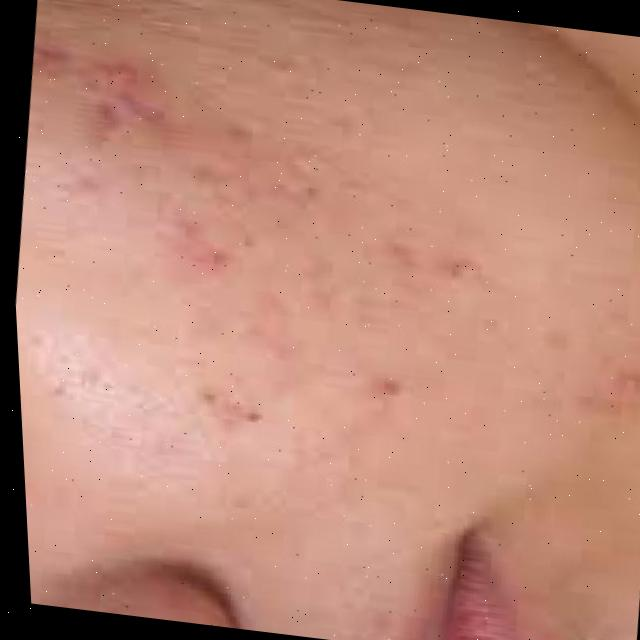Acne: (31, 51, 184, 166)
